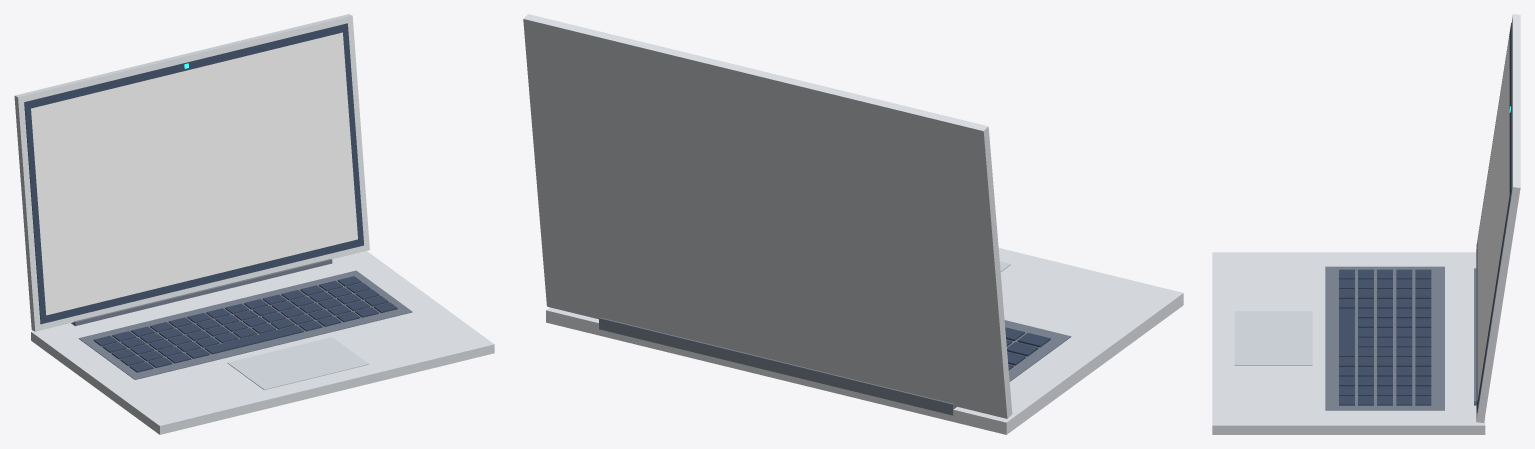
Rendered from tesda-laptop.glb.
3 renders of one model, left to right at view 1: azimuth 30°, elevation 25°; view 2: azimuth 150°, elevation 25°; view 3: azimuth 270°, elevation 25°, orthographic. The views are drawn at different scales.
Visible parts, largest first — view 1: ScreenDisplay, BaseDeck, KeyboardKeys, LidShell, ScreenBezel, KeyboardRecess, Trackpad, Hinge; view 2: LidShell, BaseDeck, Hinge, KeyboardRecess, KeyboardKeys; view 3: BaseDeck, KeyboardKeys, KeyboardRecess, ScreenDisplay, Trackpad, LidShell, ScreenBezel, Hinge.
Boxes of the visible parts, bbox=[...] form: ScreenDisplay: bbox=[31, 32, 357, 315]; BaseDeck: bbox=[31, 251, 494, 434]; KeyboardKeys: bbox=[93, 276, 397, 372]; LidShell: bbox=[14, 14, 369, 331]; ScreenBezel: bbox=[24, 23, 363, 324]; KeyboardRecess: bbox=[78, 270, 412, 379]; Trackpad: bbox=[227, 337, 368, 390]; Hinge: bbox=[71, 259, 332, 326]; LidShell: bbox=[523, 14, 1012, 418]; BaseDeck: bbox=[546, 248, 1183, 434]; Hinge: bbox=[599, 317, 956, 415]; KeyboardRecess: bbox=[1004, 320, 1071, 381]; KeyboardKeys: bbox=[1005, 327, 1050, 370]; BaseDeck: bbox=[1212, 252, 1485, 434]; KeyboardKeys: bbox=[1339, 269, 1431, 405]; KeyboardRecess: bbox=[1325, 266, 1444, 410]; ScreenDisplay: bbox=[1477, 35, 1509, 401]; Trackpad: bbox=[1234, 311, 1312, 365]; LidShell: bbox=[1476, 14, 1520, 422]; ScreenBezel: bbox=[1476, 23, 1511, 412]; Hinge: bbox=[1474, 268, 1476, 405].
Bounding box in the file's own units: 2.94 × 1.96 × 2.21.
